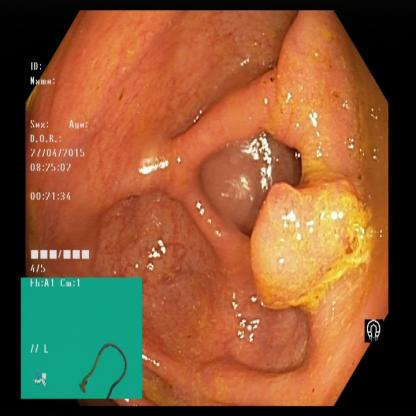Labels: (21, 277, 146, 400), (28, 59, 95, 275), (360, 310, 388, 345)
Polyps: (254, 182, 371, 305)
